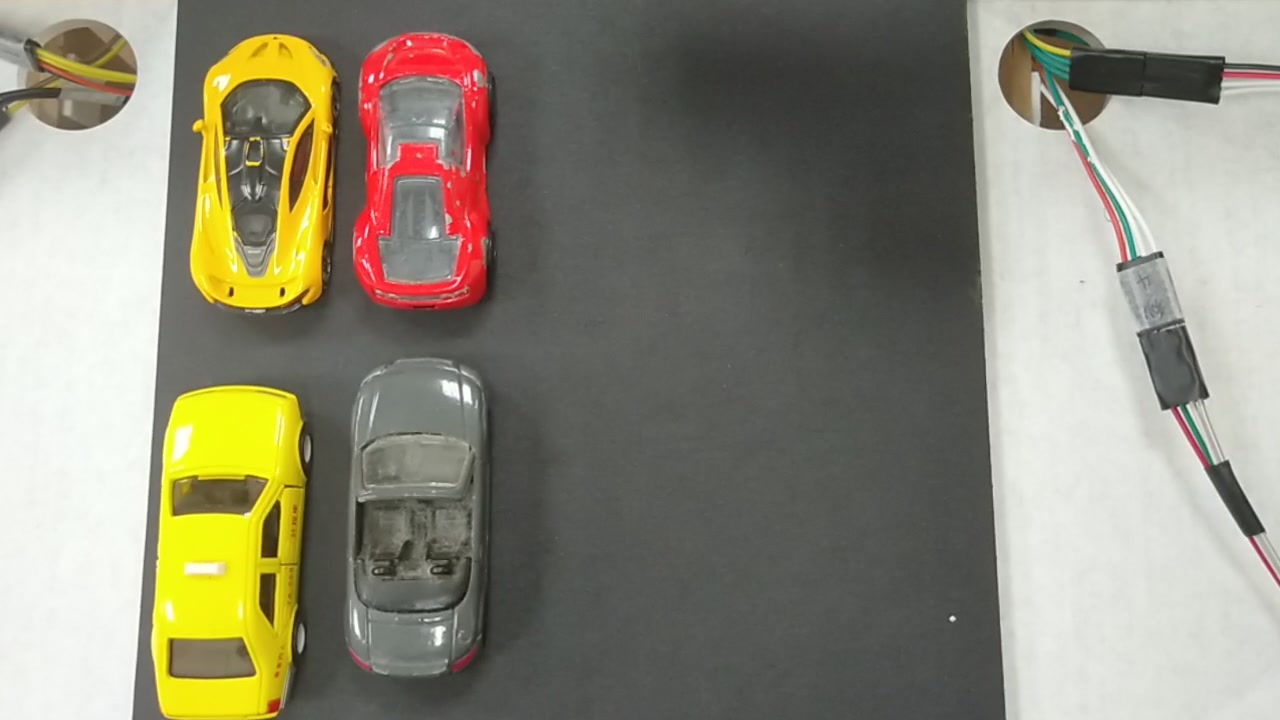car: (149, 394, 303, 716), (349, 368, 489, 673), (189, 42, 334, 303), (352, 37, 491, 305)
